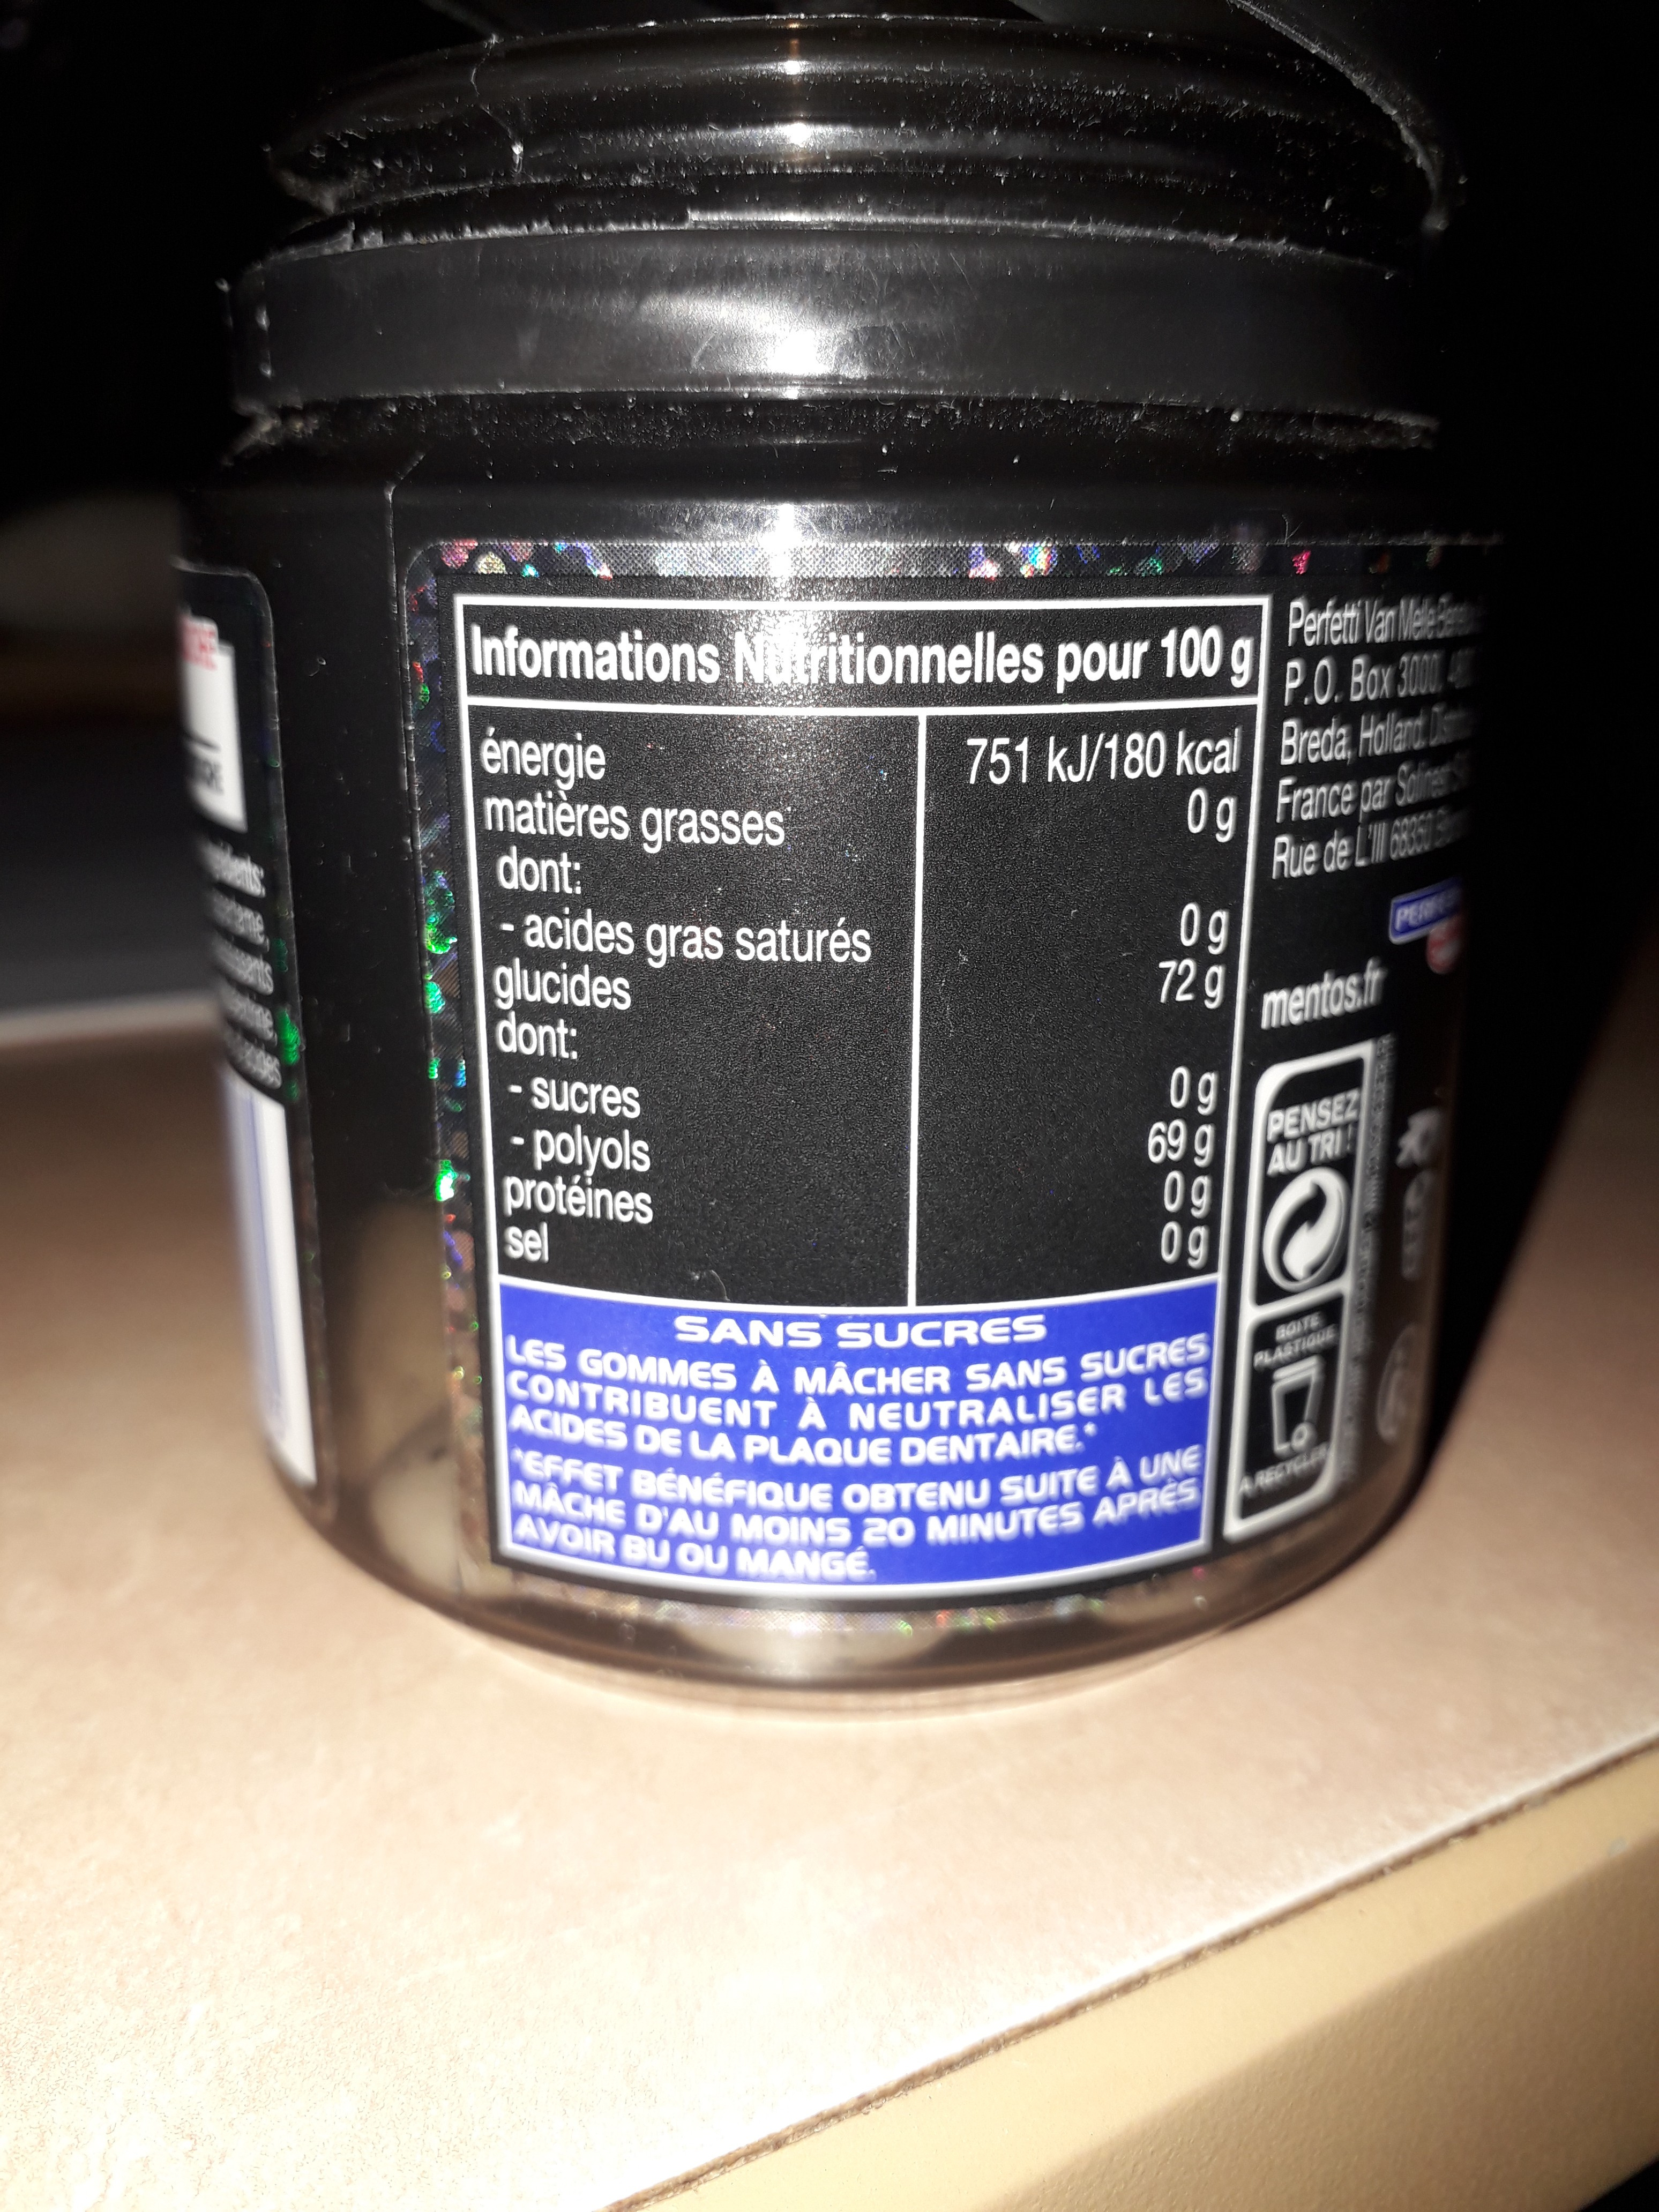column: (479, 723, 875, 1301), (964, 728, 1222, 1268)
table: (453, 585, 1230, 1310)
